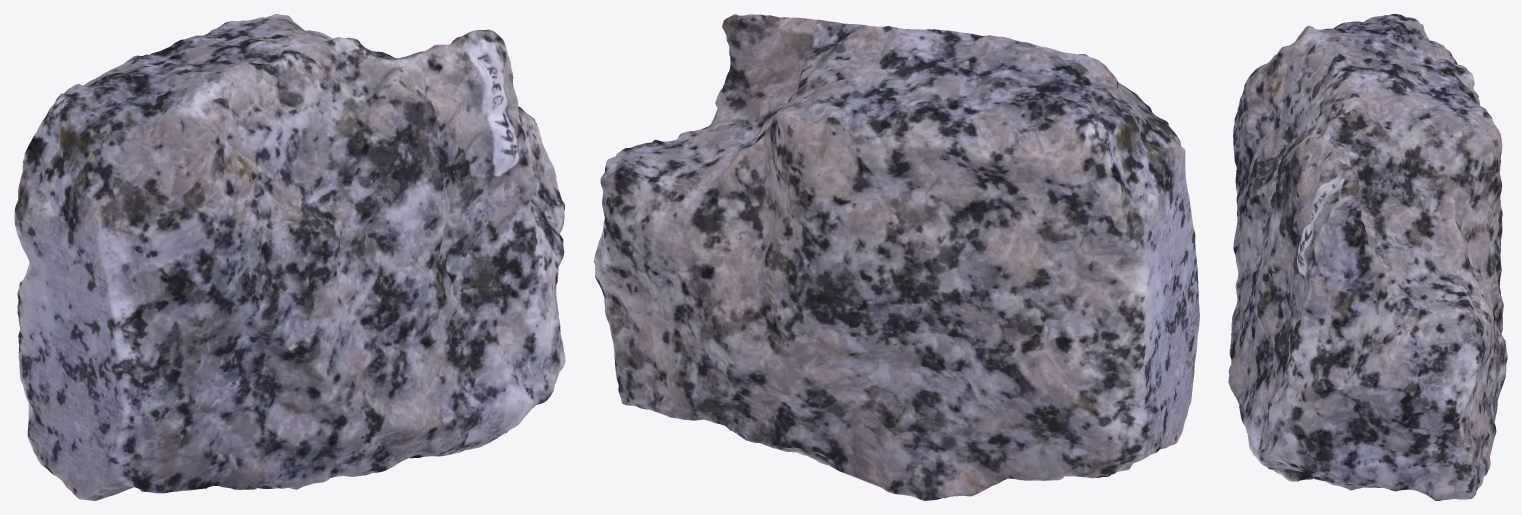
Rendered from granite.glb.
The picture shows the model from 3 angles, left to right: view 1: azimuth 30°, elevation 25°; view 2: azimuth 150°, elevation 25°; view 3: azimuth 270°, elevation 25°; orthographic projection. The views are drawn at different scales.
Parts seen in each view (by area): view 1: Object_2; view 2: Object_2; view 3: Object_2.
Part boxes in pixels (bbox=[...]): Object_2: bbox=[14, 14, 565, 500]; Object_2: bbox=[594, 14, 1199, 500]; Object_2: bbox=[1228, 14, 1507, 500].
Bounding box in the file's own units: 2.09 × 1.6 × 1.13.
1 material, 1 textured.
